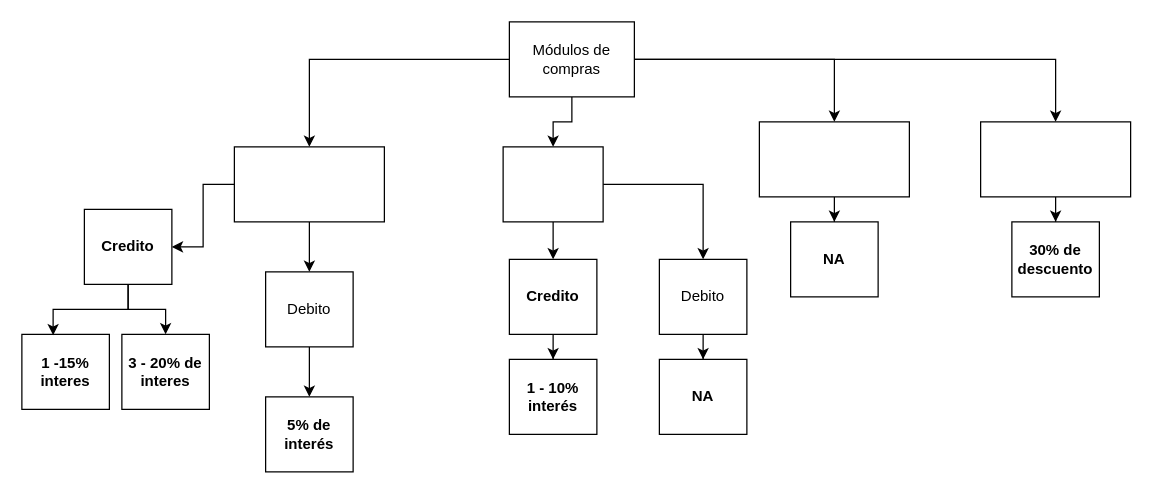
Image size: 1153x494. Some labels were removed from this diagram. The box of each missing label's shape, as (x1, y1, x2, y2) in pixels:
AMEX: (758, 121, 909, 197)
Efectivo: (979, 121, 1131, 197)
Master Card: (502, 146, 603, 222)
VISA: (233, 146, 384, 222)
